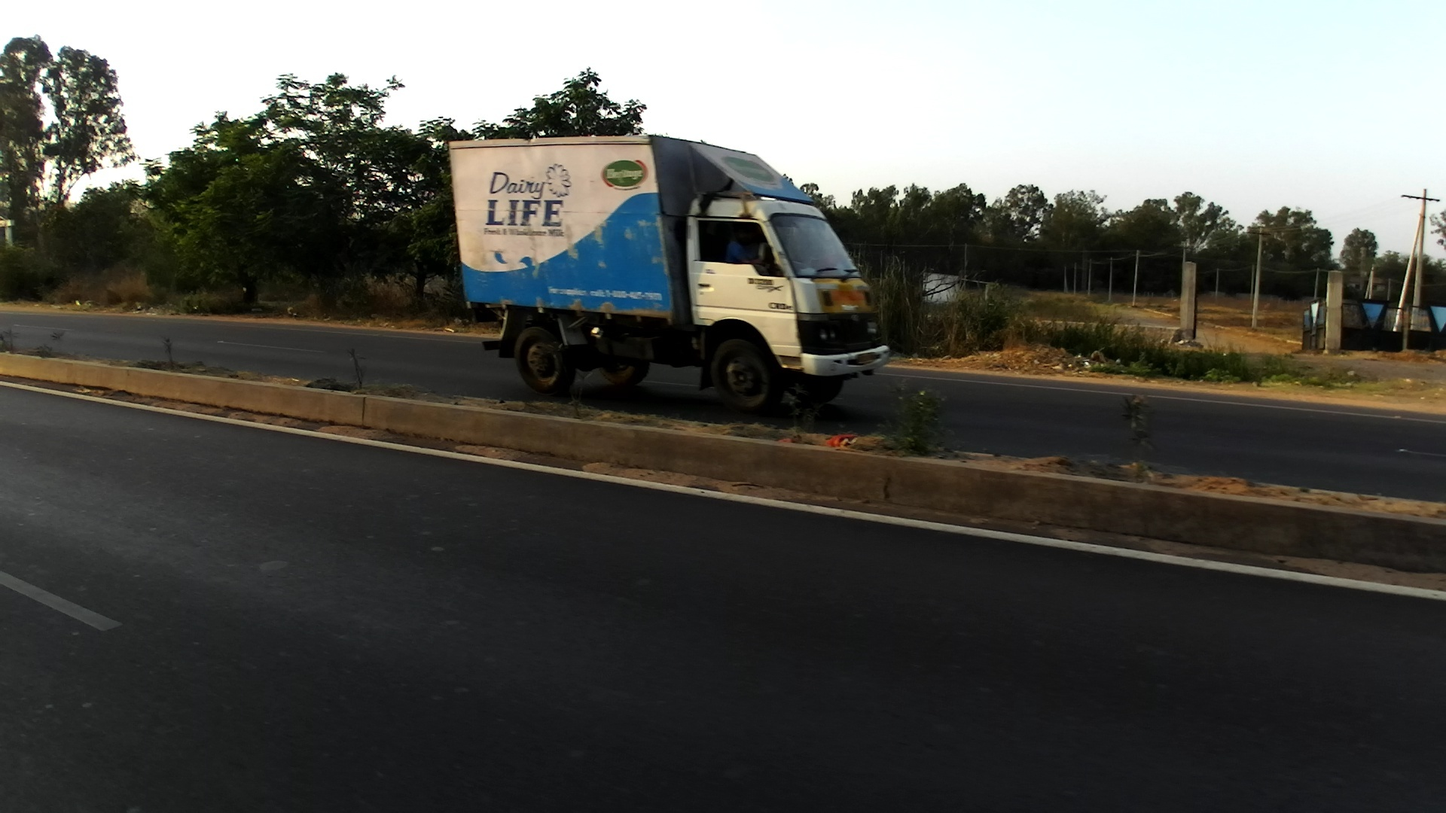truck: (447, 130, 889, 413)
